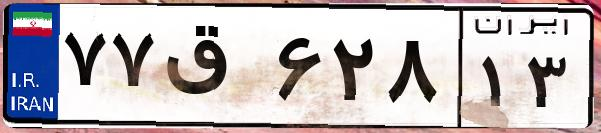1: (475, 38, 525, 113)
2: (330, 28, 385, 110)
3: (525, 38, 570, 115)
6: (270, 28, 330, 110)
7: (57, 26, 110, 100), (110, 28, 158, 98)
8: (385, 28, 445, 110)
ق: (158, 20, 270, 120)
